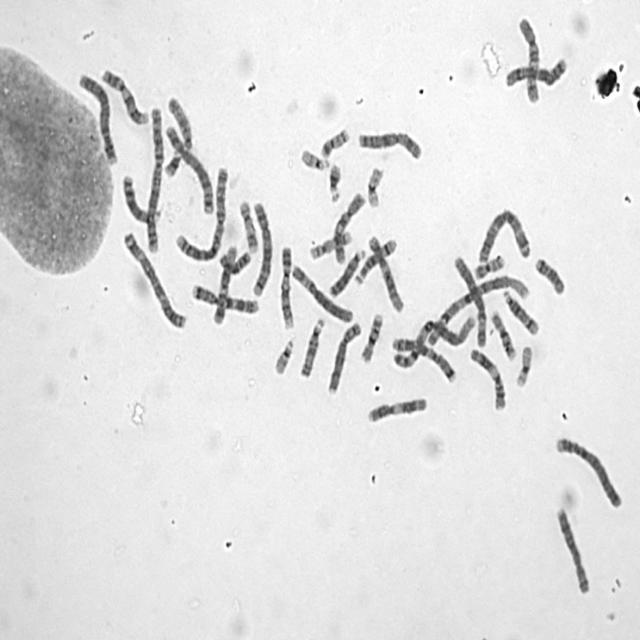A1: (426, 274, 532, 348), (391, 314, 476, 370)
A2: (174, 164, 229, 264), (146, 106, 165, 252)
A3: (124, 230, 189, 331), (477, 207, 533, 264)
B4: (554, 437, 624, 509), (76, 73, 120, 165)
B5: (165, 125, 214, 215), (250, 200, 274, 296)
C10: (333, 192, 365, 266), (518, 17, 542, 103)
C11: (470, 348, 508, 412), (368, 396, 428, 424)
C12: (368, 234, 404, 314), (212, 244, 239, 326)
C6: (291, 264, 353, 324), (453, 255, 488, 348)
C7: (391, 336, 457, 384), (190, 283, 260, 316)
C8: (555, 506, 592, 596), (328, 321, 363, 394)
C9: (101, 67, 149, 127), (279, 245, 294, 332)
D13: (122, 174, 162, 226), (328, 248, 366, 300)
D14: (353, 237, 398, 288), (502, 290, 540, 337)
D15: (297, 318, 327, 379), (165, 95, 194, 152)
E16: (491, 309, 516, 363), (360, 312, 384, 365)
E17: (308, 230, 353, 262), (238, 200, 258, 254)
E18: (534, 257, 568, 296), (218, 250, 252, 276)
F19: (366, 165, 386, 210), (515, 344, 532, 388)
F20: (319, 128, 350, 159), (474, 254, 505, 280)
G21: (327, 162, 342, 203), (165, 148, 182, 179)
G22: (273, 331, 295, 378), (300, 148, 330, 172)
X: (504, 57, 568, 90), (357, 131, 424, 162)
